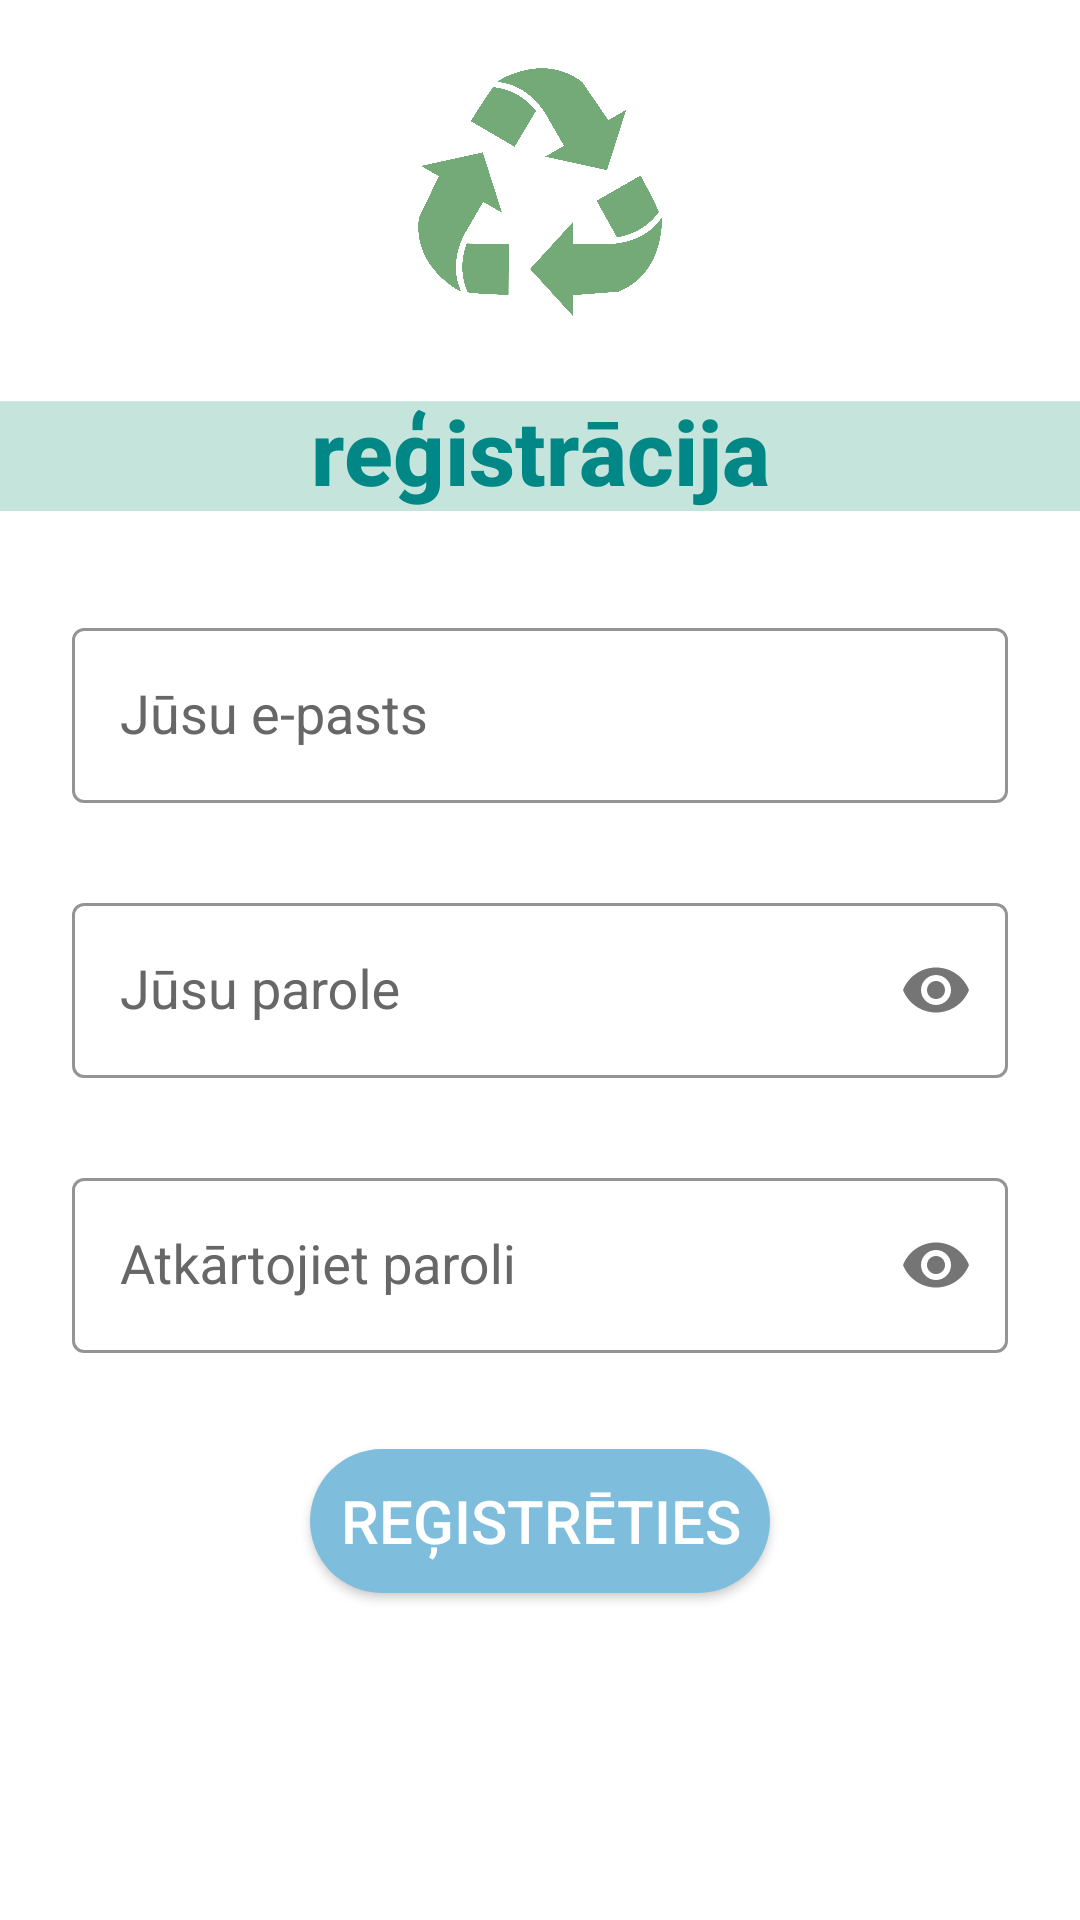

Locate icon controls on the screen. Image size 1080px x 1920px, boxes as (x1, y1, x2, y2).
recycle: (418, 68, 662, 316)
